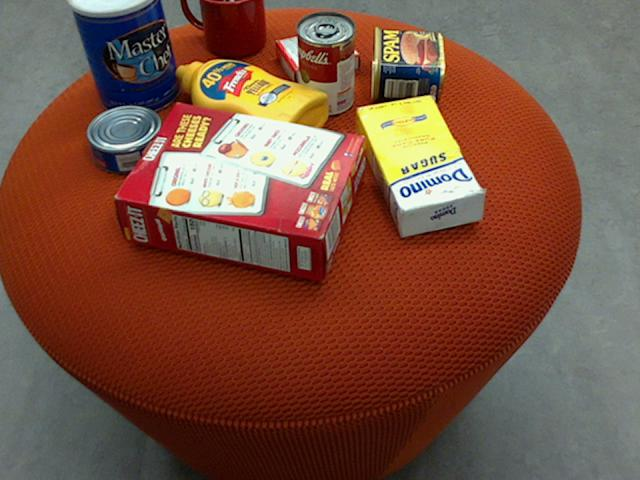cracker_box: (113, 100, 364, 280)
gelatin_box: (275, 25, 361, 86)
large_marker: (220, 0, 254, 49)
master_chef_can: (66, 0, 180, 115)
mug: (182, 0, 265, 56)
mustard_bottle: (175, 59, 327, 154)
potted_meat_can: (370, 26, 443, 101)
sugar_box: (353, 95, 486, 236)
tomato_soup_can: (296, 10, 355, 115)
tuna_fish_can: (85, 105, 165, 173)
